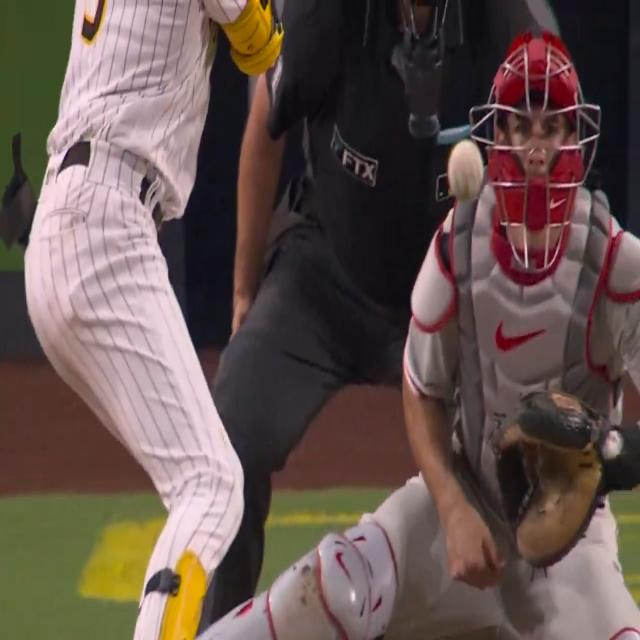baseball: (449, 139, 483, 202)
